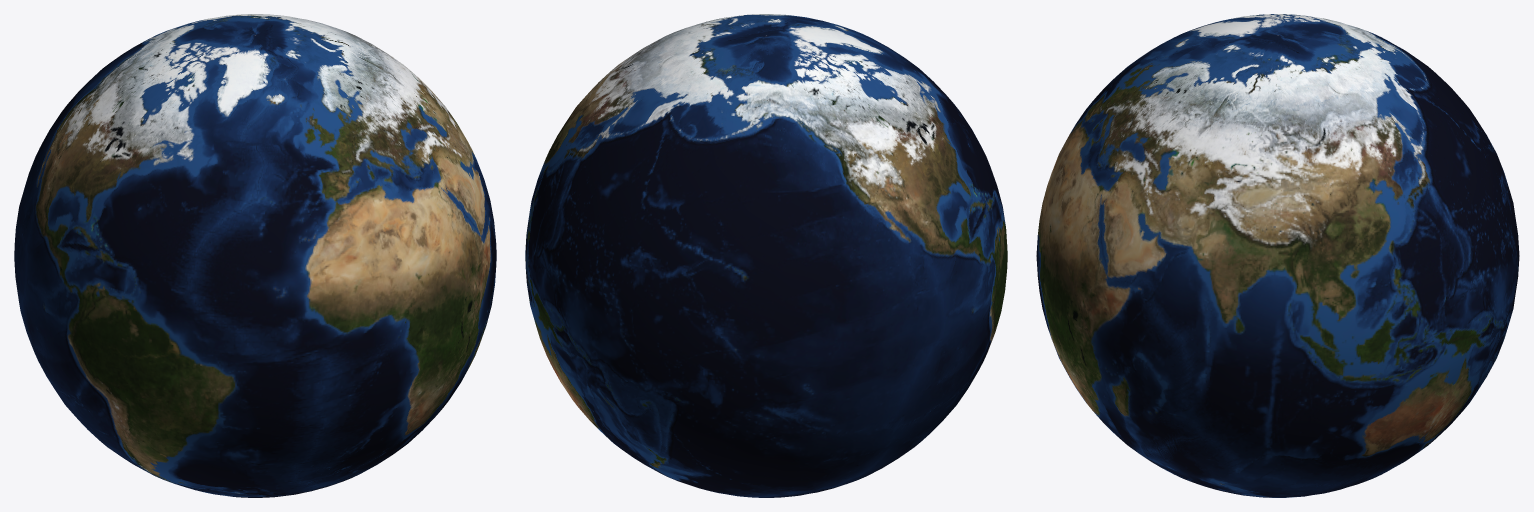
3 views of the same model, side by side, from view 1: azimuth 30°, elevation 25°; view 2: azimuth 150°, elevation 25°; view 3: azimuth 270°, elevation 25° (orthographic).
Parts seen in each view (by area): view 1: Earth; view 2: Earth; view 3: Earth.
Boxes of the visible parts, left/top/right/bottom form: Earth: left=14, top=14, right=496, bottom=497; Earth: left=525, top=14, right=1007, bottom=497; Earth: left=1036, top=14, right=1519, bottom=497.
Bounding box in the file's own units: 8484 × 8536 × 8484.
1 material, 1 textured.
